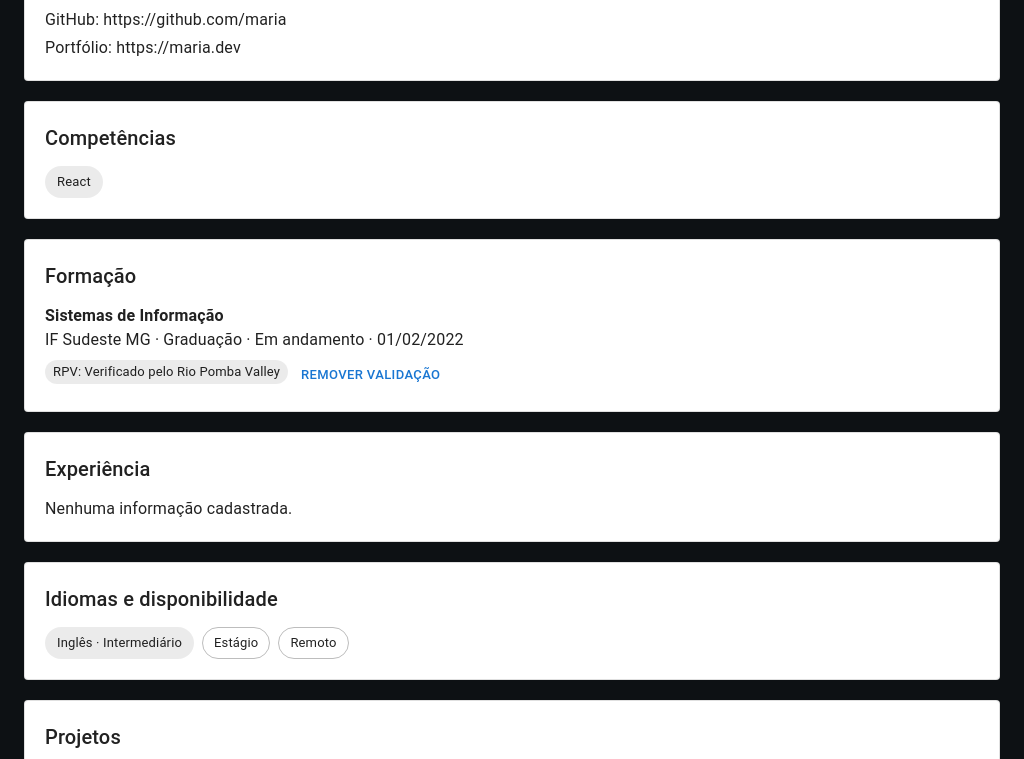
Test: AdminStudentDetailView RPV validation removal › uses the fallback message for unknown failures and clears it when a new attempt starts
(page scrolled)
Click the button "Remover validação" at [371, 375], box [296, 360, 445, 391]
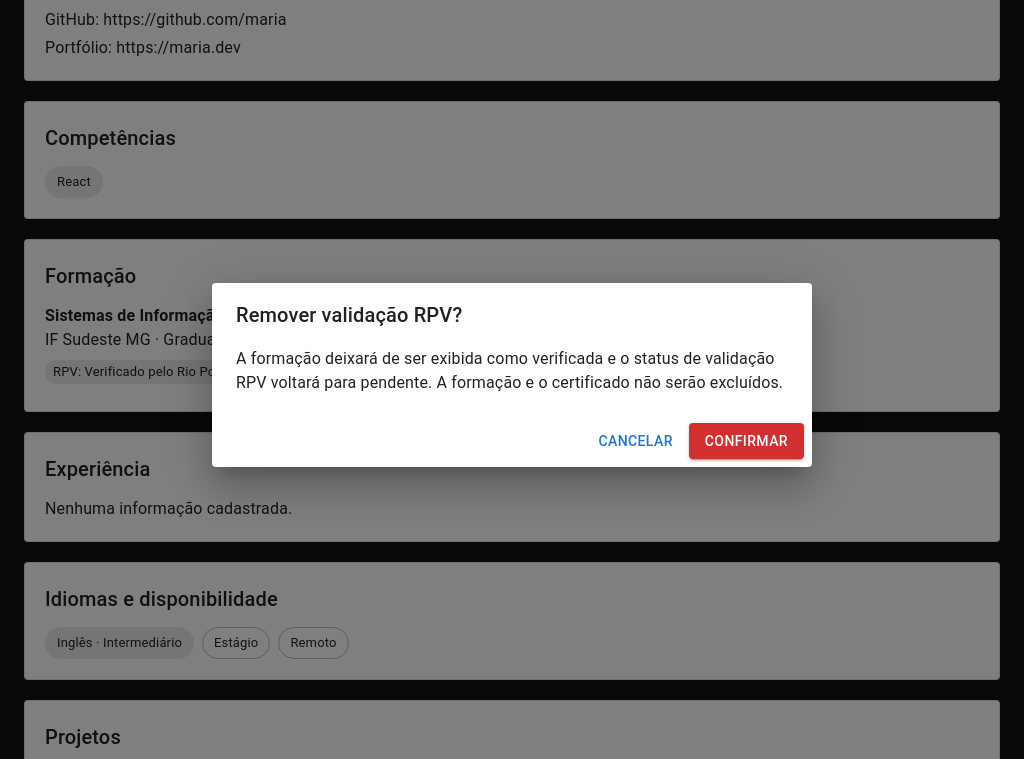
Click the button "Confirmar" at [746, 441], box [689, 423, 804, 459]
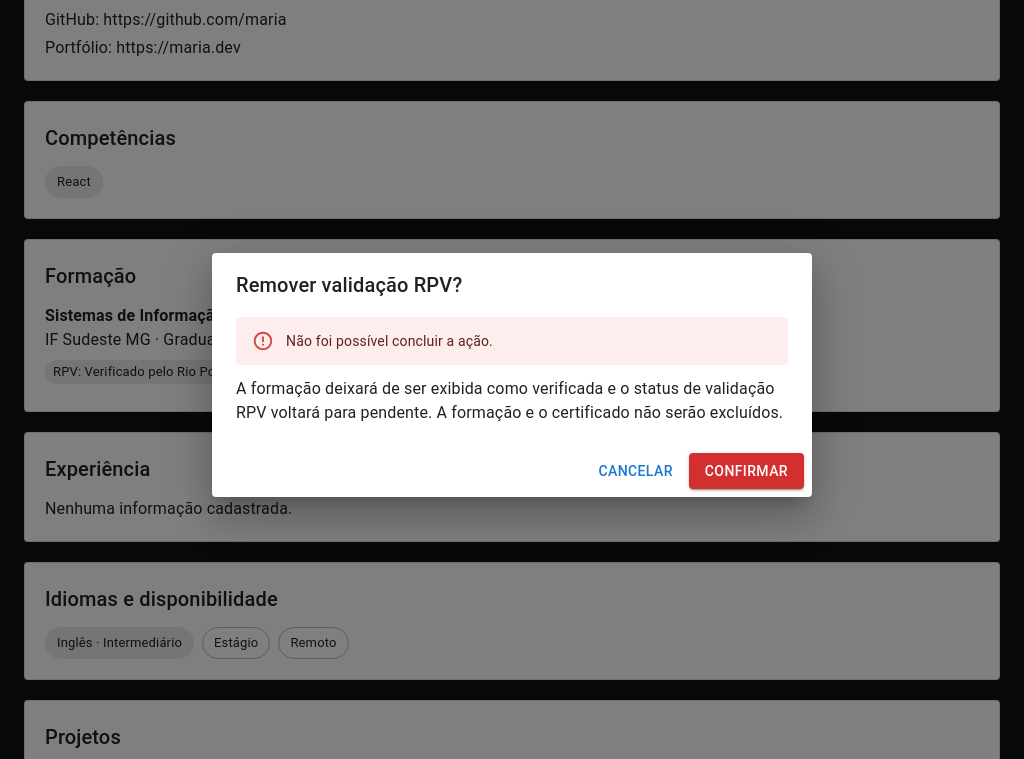
Now the message reads "Não foi possível concluir a ação.", box [286, 333, 493, 349]
Click the button "Confirmar" at [746, 471], box [689, 453, 804, 489]
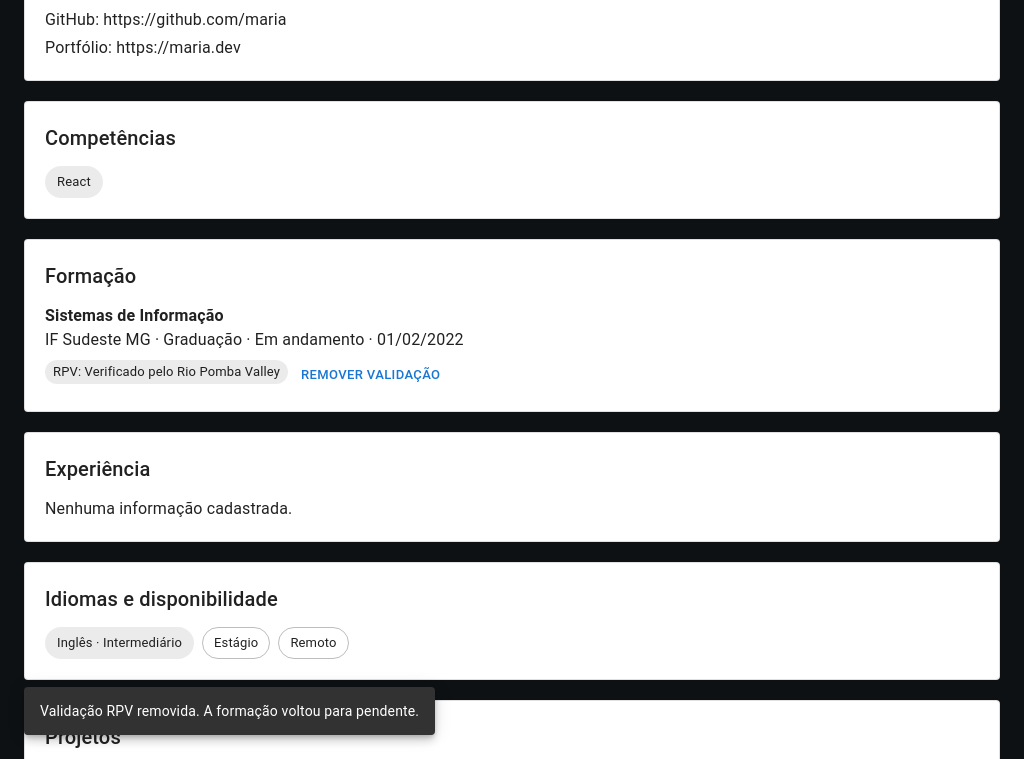
Now the text "Validação RPV removida. A formação voltou para pendente." is shown, box [40, 703, 419, 719]
